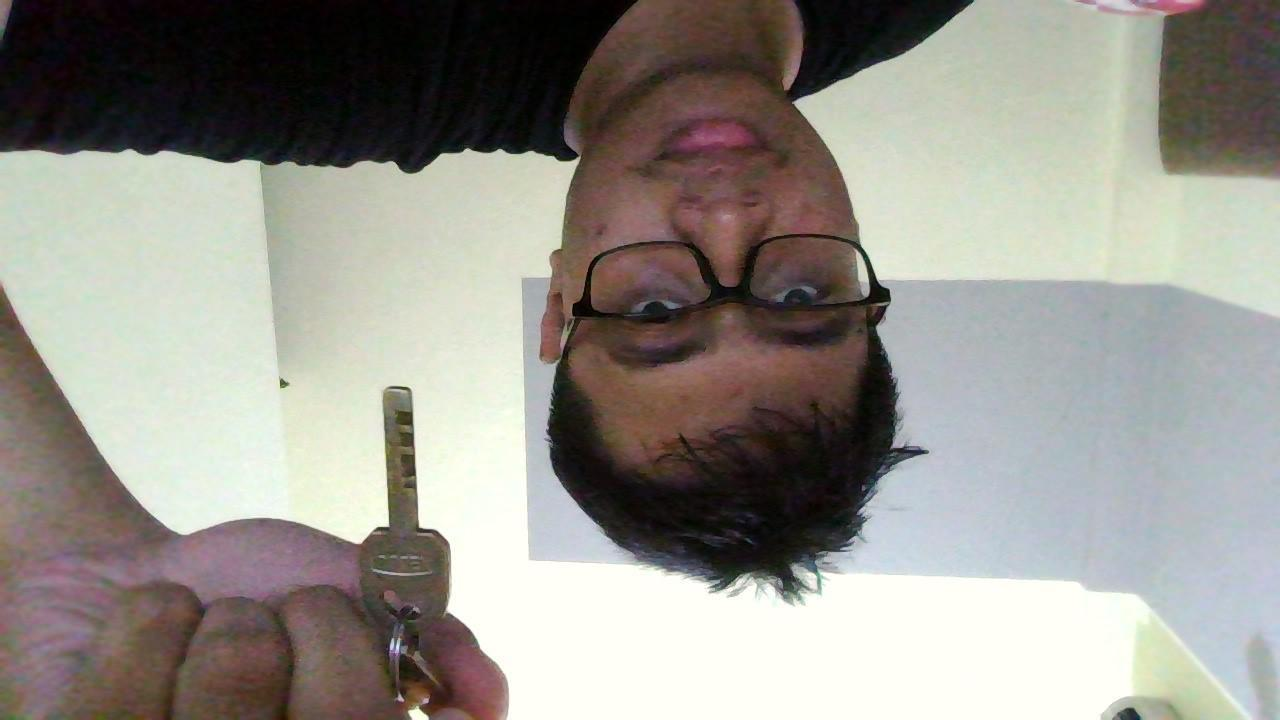keys: (355, 378, 465, 654)
